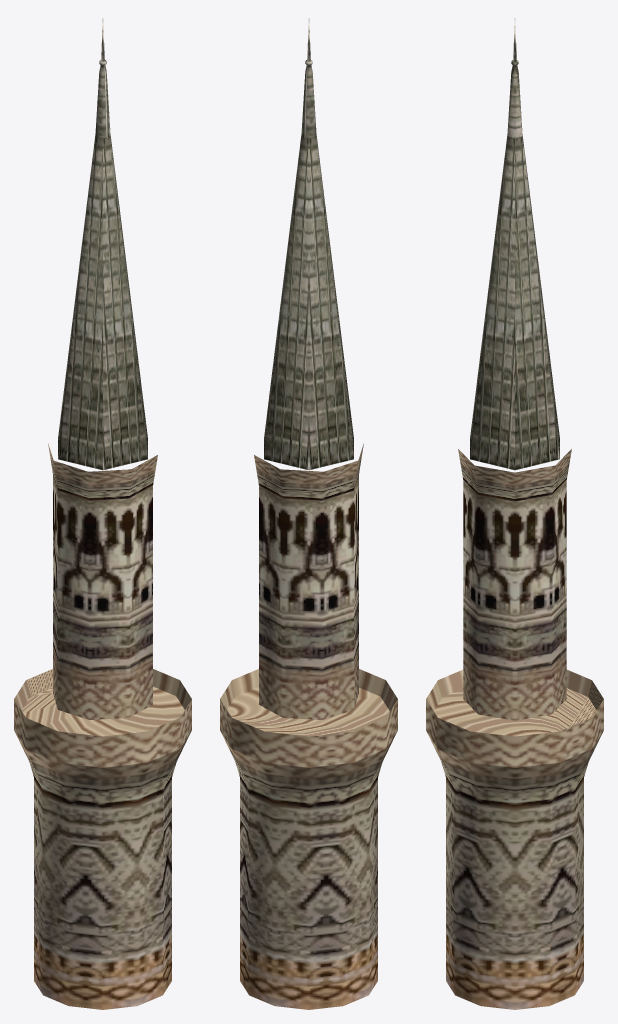
The model's file is M2Zone1_Mosque_C.glb.
The picture shows the model from 3 angles, left to right: view 1: azimuth 30°, elevation 25°; view 2: azimuth 150°, elevation 25°; view 3: azimuth 270°, elevation 25°; orthographic projection.
Parts seen in each view (by area): view 1: M2ZONE1_MOSQUE_C; view 2: M2ZONE1_MOSQUE_C; view 3: M2ZONE1_MOSQUE_C.
Part boxes in pixels (x1,y1,x2,y2): M2ZONE1_MOSQUE_C: (14,18,191,1009); M2ZONE1_MOSQUE_C: (220,18,397,1009); M2ZONE1_MOSQUE_C: (426,18,603,1009).
Bounding box in the file's own units: 7.82 × 46.89 × 7.82.
Materials: 2 (2 with a texture image).
